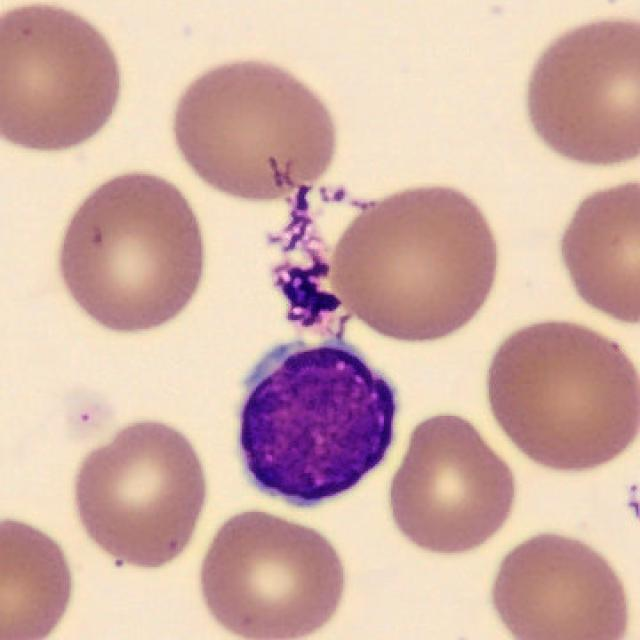Linfocito: (236, 345, 396, 505)
